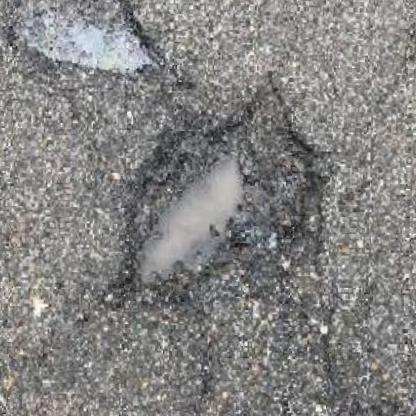pothole: (121, 108, 313, 300), (0, 0, 169, 71)
